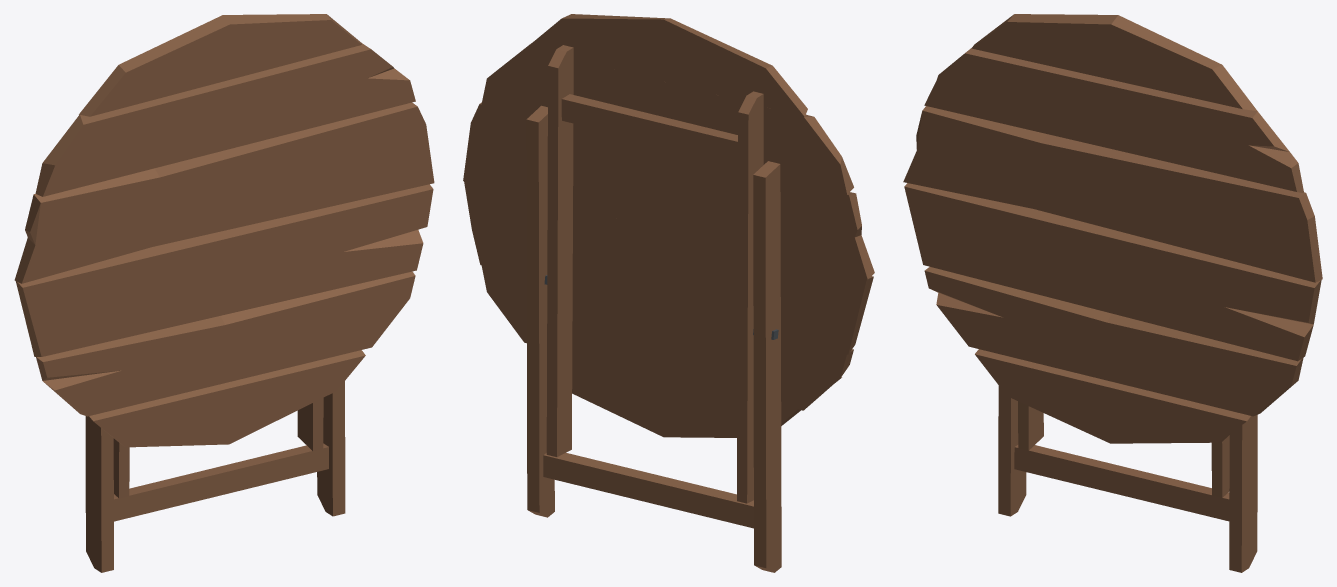
Rendered from SM_Prop_Cafe_Table_Folding_02_Folded.obj.
3 renders of one model, left to right at view 1: azimuth 30°, elevation 25°; view 2: azimuth 150°, elevation 25°; view 3: azimuth 330°, elevation 25°, orthographic.
Parts seen in each view (by area): view 1: SM_Prop_Cafe_Table_Folding_02_Folded_0; view 2: SM_Prop_Cafe_Table_Folding_02_Folded_0; view 3: SM_Prop_Cafe_Table_Folding_02_Folded_0.
Part boxes in pixels (x1=…): SM_Prop_Cafe_Table_Folding_02_Folded_0: x1=14, y1=14, x2=434, y2=572; SM_Prop_Cafe_Table_Folding_02_Folded_0: x1=463, y1=14, x2=874, y2=572; SM_Prop_Cafe_Table_Folding_02_Folded_0: x1=903, y1=14, x2=1322, y2=572.
Size of the model in its own units: 0.8646 by 1.06 by 0.0876.
Materials: 1 (1 with a texture image).
